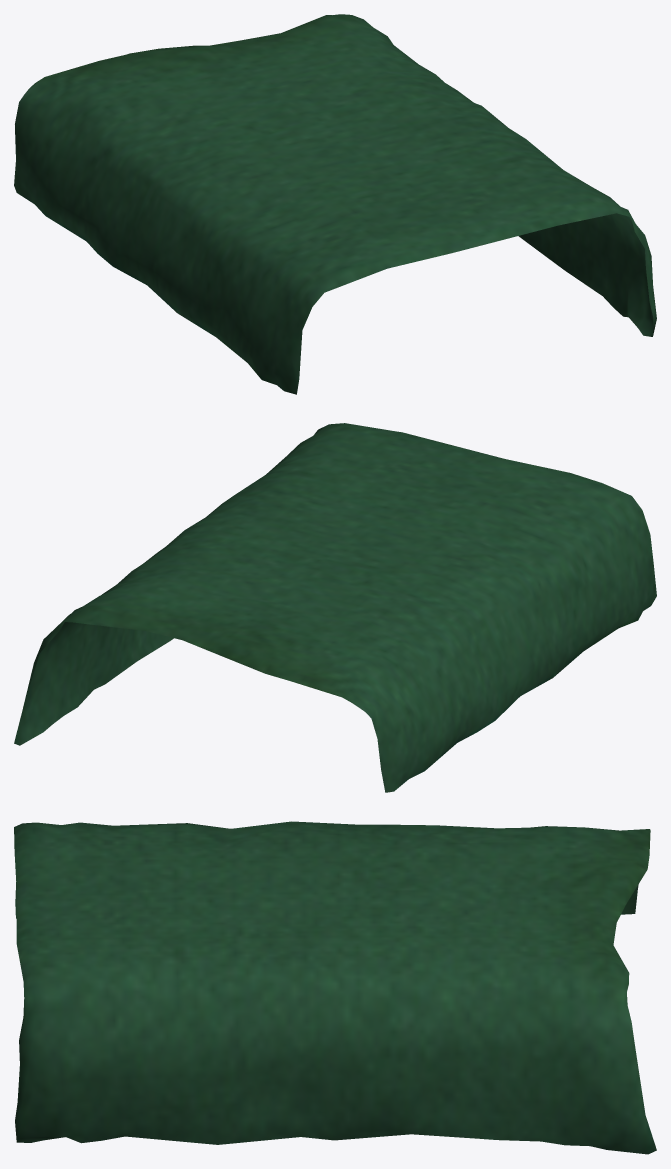
Rendered from vbedsheet.fbx.
3 views of the same model, one above another, from view 1: azimuth 30°, elevation 25°; view 2: azimuth 150°, elevation 25°; view 3: azimuth 270°, elevation 25° (orthographic). The views are drawn at different scales.
Visible parts, largest first — view 1: single_bedsheed_1; view 2: single_bedsheed_1; view 3: single_bedsheed_1.
Part boxes in pixels (x1=…): single_bedsheed_1: x1=14, y1=14, x2=656, y2=394; single_bedsheed_1: x1=14, y1=423, x2=656, y2=792; single_bedsheed_1: x1=14, y1=821, x2=656, y2=1154.
Bounding box in the file's own units: 1.35 × 0.4909 × 1.78.
